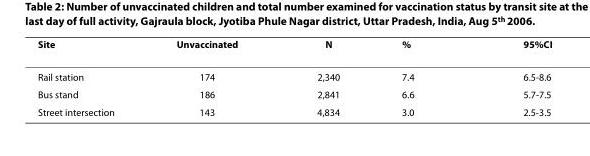table: (36, 36, 551, 117)
table column: (144, 36, 276, 117), (36, 36, 144, 117), (370, 36, 468, 117), (276, 36, 370, 117), (468, 36, 551, 117)
table column header: (36, 36, 551, 59)
table row: (36, 59, 551, 85), (36, 36, 551, 59), (36, 85, 551, 102), (36, 102, 551, 117)
